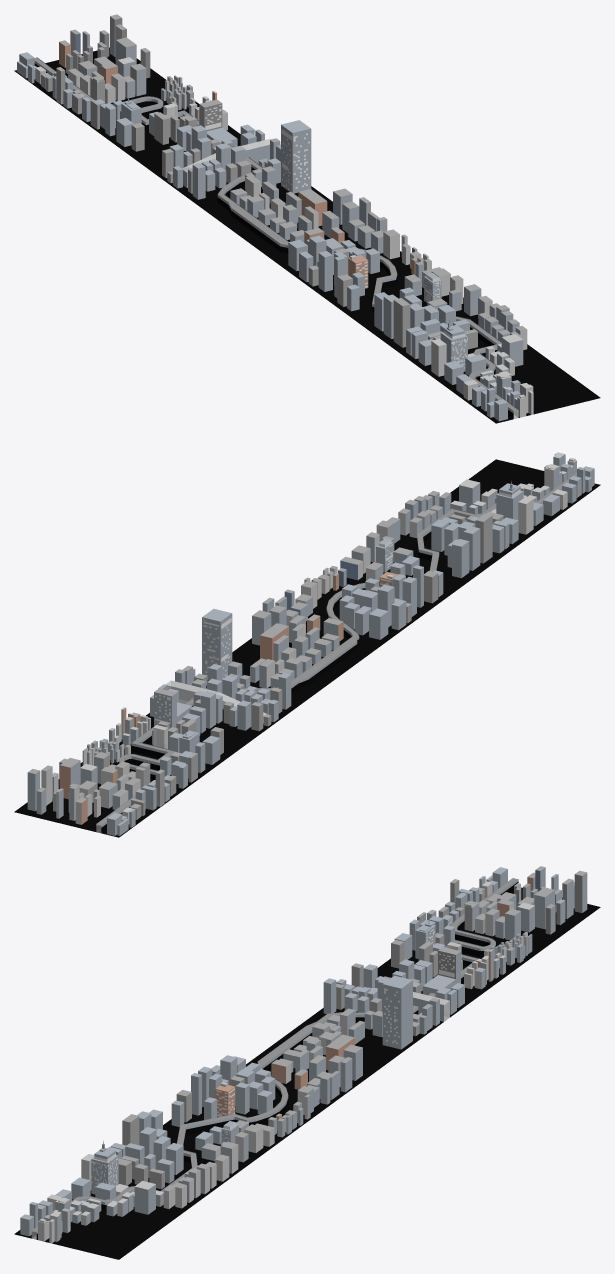
The model's file is map.gltf.
3 renders of one model, top to bottom at view 1: azimuth 30°, elevation 25°; view 2: azimuth 150°, elevation 25°; view 3: azimuth 330°, elevation 25°, orthographic.
Parts seen in each view (by area): view 1: Node4135, Node2782, Node4121, Node4126; view 2: Node4135, Node2782, Node4121, Node4126; view 3: Node2782, Node4121, Node4126, Node4135, Node2841.
Boxes of the visible parts, x1,y1,x2,y2 form: Node4135: [14, 70, 512, 423]; Node2782: [228, 182, 600, 417]; Node4121: [34, 57, 518, 411]; Node4126: [45, 47, 241, 145]; Node4135: [101, 483, 600, 837]; Node2782: [206, 459, 544, 687]; Node4121: [96, 473, 576, 825]; Node4126: [14, 713, 158, 831]; Node2782: [37, 1021, 443, 1259]; Node4121: [32, 878, 517, 1231]; Node4126: [450, 887, 600, 1017]; Node4135: [14, 945, 466, 1238]; Node2841: [401, 980, 412, 1049].
Size of the model in its own units: 5567688 by 3089011 by 4.43e+07.
